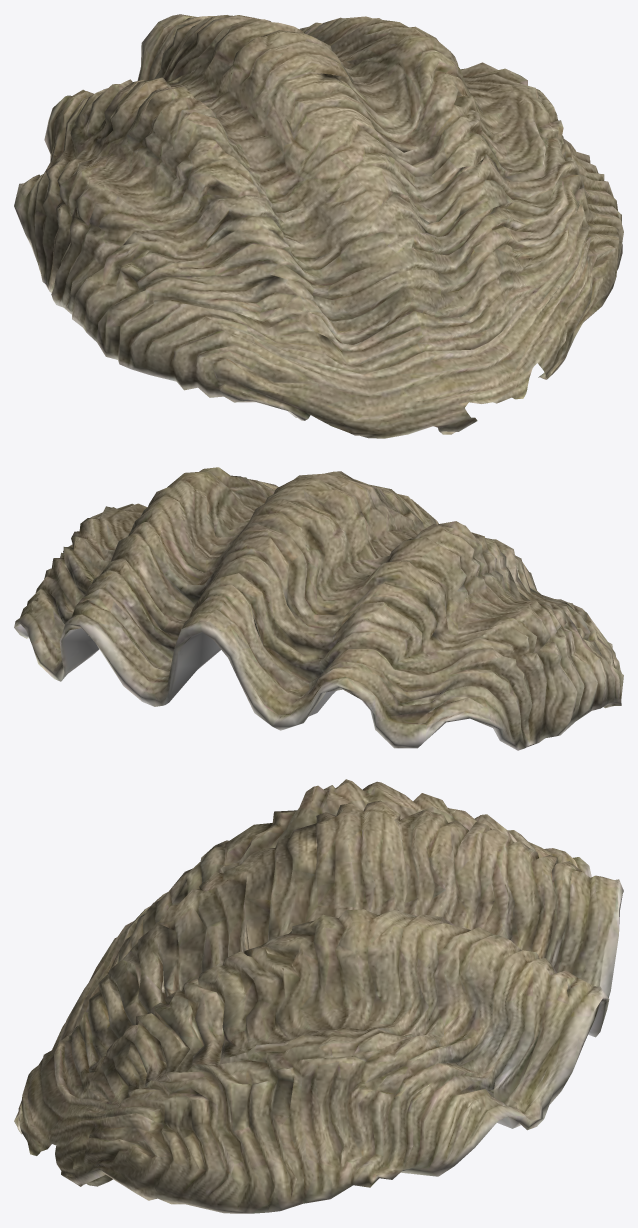
The model's file is clam-top.glb.
3 views of the same model, one above another, from view 1: azimuth 30°, elevation 25°; view 2: azimuth 150°, elevation 25°; view 3: azimuth 270°, elevation 25° (orthographic). The views are drawn at different scales.
Visible parts, largest first — view 1: Model; view 2: Model; view 3: Model.
Boxes of the visible parts, x1,y1,x2,y2 form: Model: (14,14,623,438); Model: (14,467,623,750); Model: (14,779,623,1213).
Size of the model in its own units: 1.89 by 0.9662 by 1.68.
Materials: 1 (1 with a texture image).
